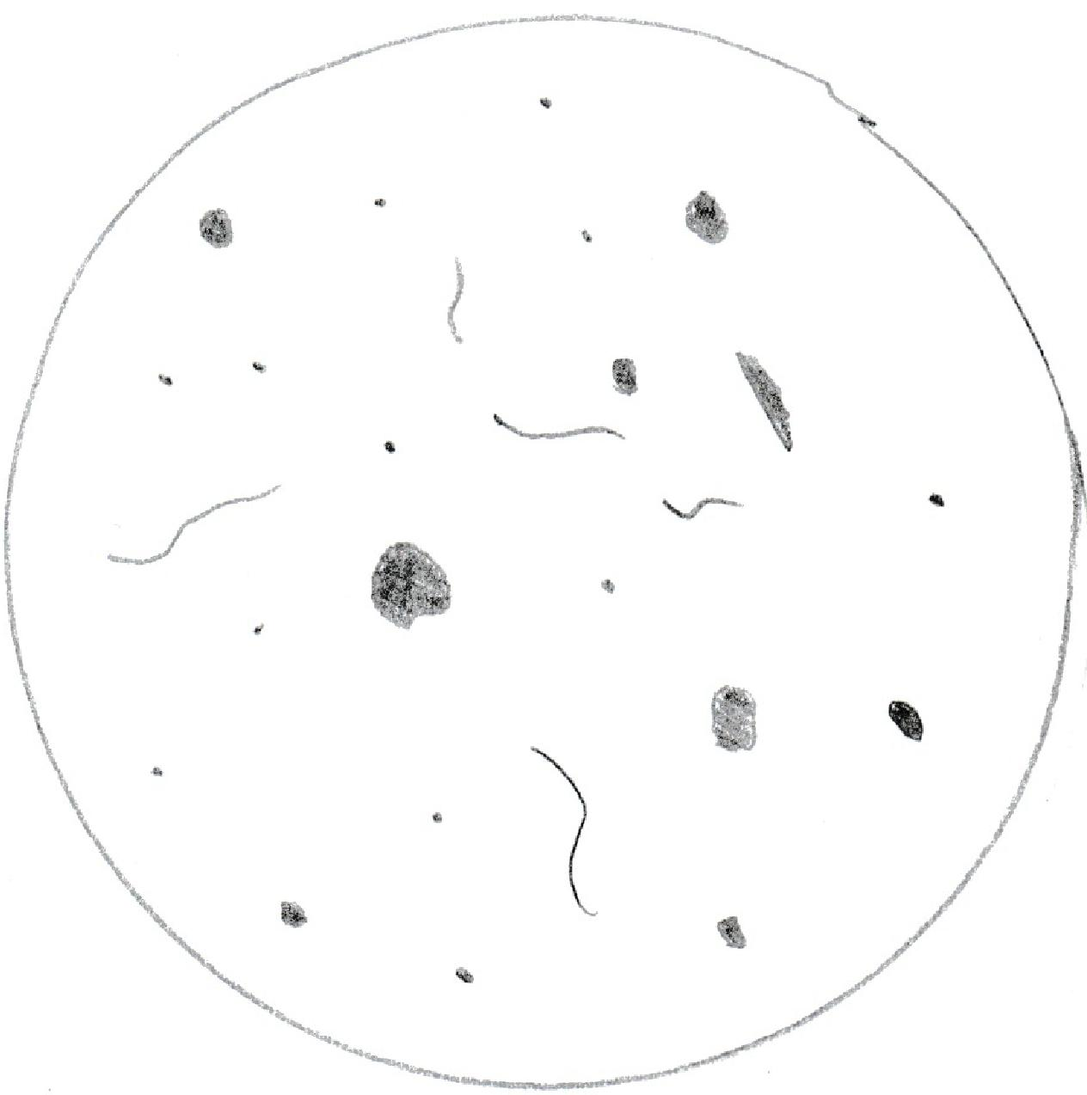Microplastic Particle: (362, 504, 478, 648), (107, 476, 291, 566), (697, 649, 781, 786), (531, 746, 596, 915), (735, 337, 811, 471), (670, 157, 750, 275), (372, 541, 451, 628), (181, 188, 249, 270), (368, 406, 417, 481), (892, 683, 935, 765), (493, 413, 625, 439), (494, 413, 625, 439), (347, 172, 405, 230), (613, 350, 660, 408), (720, 909, 765, 967), (416, 790, 461, 834), (662, 497, 743, 519), (533, 88, 570, 135), (918, 483, 963, 520), (447, 257, 464, 343), (254, 344, 286, 387), (150, 754, 183, 793), (200, 210, 233, 248), (598, 569, 628, 610), (574, 221, 606, 254), (155, 359, 181, 395), (280, 902, 307, 927), (456, 967, 474, 983)
